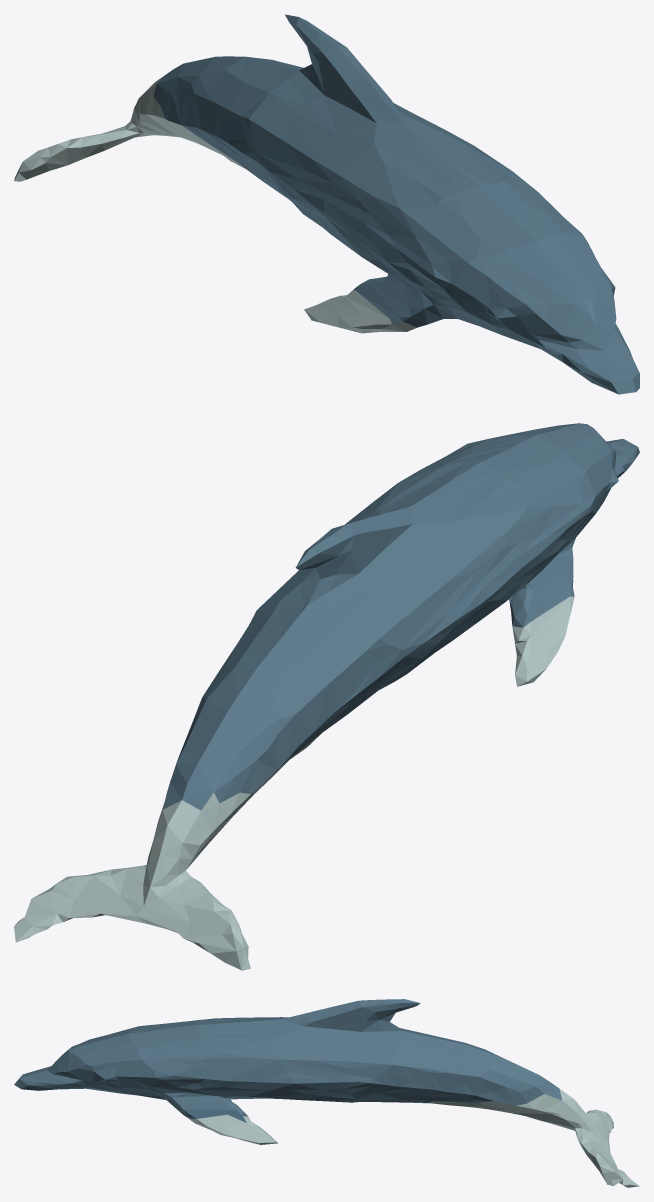
Rendered from dolphin.glb.
3 renders of one model, top to bottom at view 1: azimuth 30°, elevation 25°; view 2: azimuth 150°, elevation 25°; view 3: azimuth 270°, elevation 25°, orthographic. The views are drawn at different scales.
Visible parts, largest first — view 1: dolphin; view 2: dolphin; view 3: dolphin.
Boxes of the visible parts, left/top/right/bottom form: dolphin: left=14, top=14, right=639, bottom=394; dolphin: left=14, top=423, right=639, bottom=970; dolphin: left=14, top=999, right=639, bottom=1187.
Bounding box in the file's own units: 0.55 × 0.62 × 2.2.
